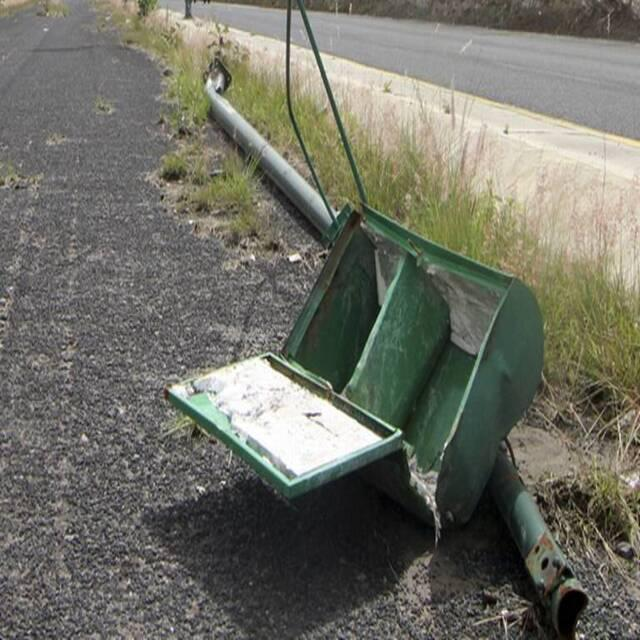Inclined Pole: (164, 54, 593, 640)
